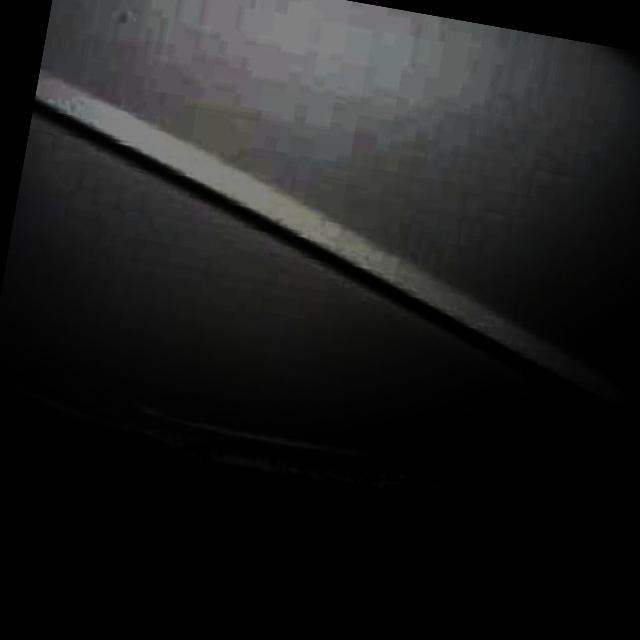crack: (147, 409, 558, 530)
